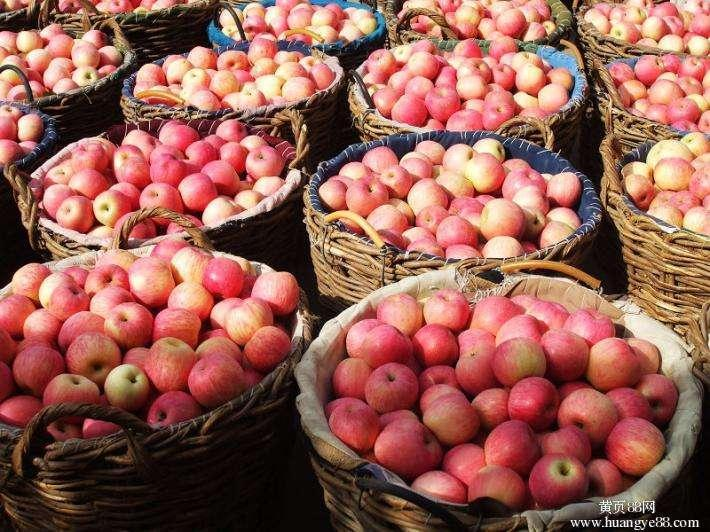apple: (371, 416, 439, 473), (463, 459, 527, 513), (559, 385, 622, 439), (601, 411, 664, 465), (523, 449, 586, 503), (482, 415, 545, 469), (63, 333, 119, 387), (187, 349, 246, 400), (421, 391, 475, 442), (421, 393, 475, 444), (587, 336, 640, 387), (489, 331, 542, 382), (505, 372, 558, 423), (540, 325, 593, 376), (143, 336, 194, 388), (102, 363, 153, 412), (106, 295, 154, 345), (126, 255, 174, 305), (414, 320, 464, 364), (13, 342, 63, 386), (331, 401, 381, 445), (357, 322, 407, 366), (423, 288, 473, 332), (364, 363, 414, 407), (240, 324, 292, 366), (222, 297, 274, 339), (249, 272, 301, 314), (471, 293, 519, 336), (441, 438, 489, 481), (456, 346, 504, 389), (41, 372, 98, 406), (145, 390, 197, 425), (199, 260, 248, 297), (152, 305, 201, 342), (171, 242, 216, 282), (46, 282, 93, 316), (563, 307, 613, 338), (497, 313, 547, 344), (163, 282, 216, 311), (637, 371, 676, 410), (652, 156, 693, 191), (2, 391, 44, 423), (12, 264, 50, 299), (1, 389, 42, 421), (1, 294, 32, 331), (25, 310, 57, 341)
